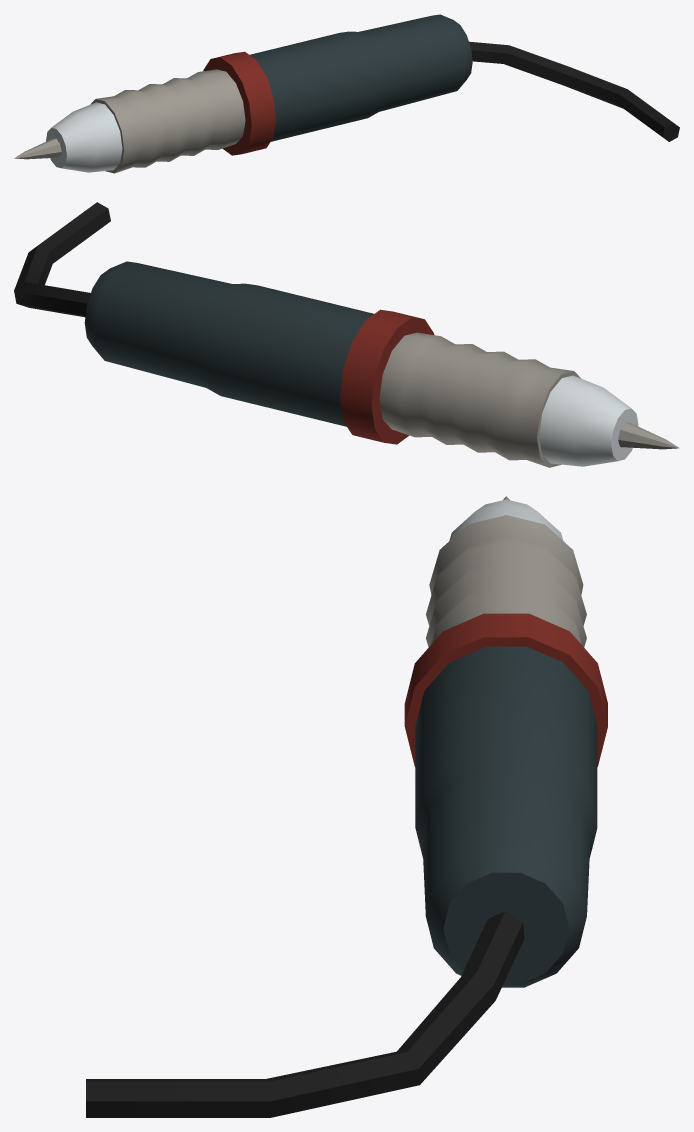
Rendered from ink-machine-rotary.glb.
3 views of the same model, one above another, from view 1: azimuth 30°, elevation 25°; view 2: azimuth 150°, elevation 25°; view 3: azimuth 270°, elevation 25° (orthographic). The views are drawn at different scales.
Visible parts, largest first — view 1: rotary; view 2: rotary; view 3: rotary.
Boxes of the visible parts, bbox=[...] form: rotary: bbox=[14, 14, 679, 173]; rotary: bbox=[14, 202, 679, 467]; rotary: bbox=[86, 496, 607, 1117].
Size of the model in its own units: 0.1849 by 0.0283 by 0.0745.
